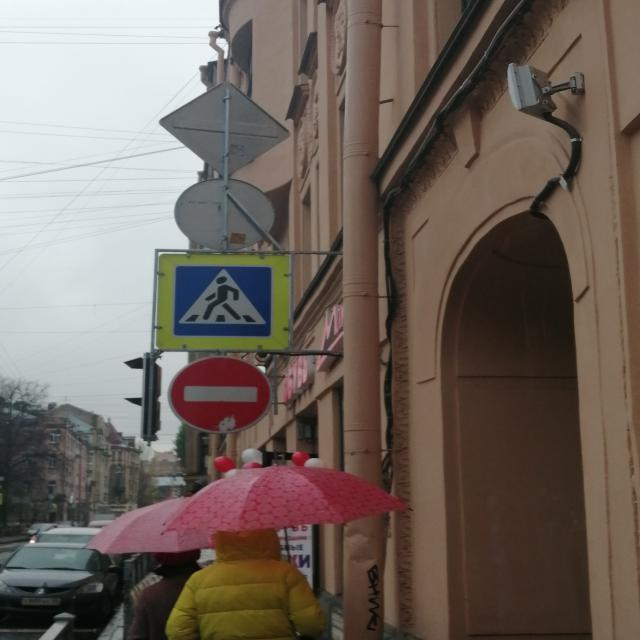road sign: (157, 251, 295, 349)
